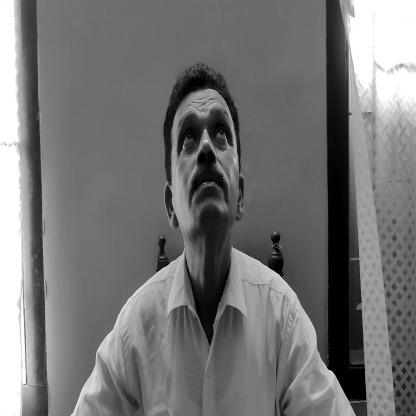Distracted: (164, 58, 242, 236)
